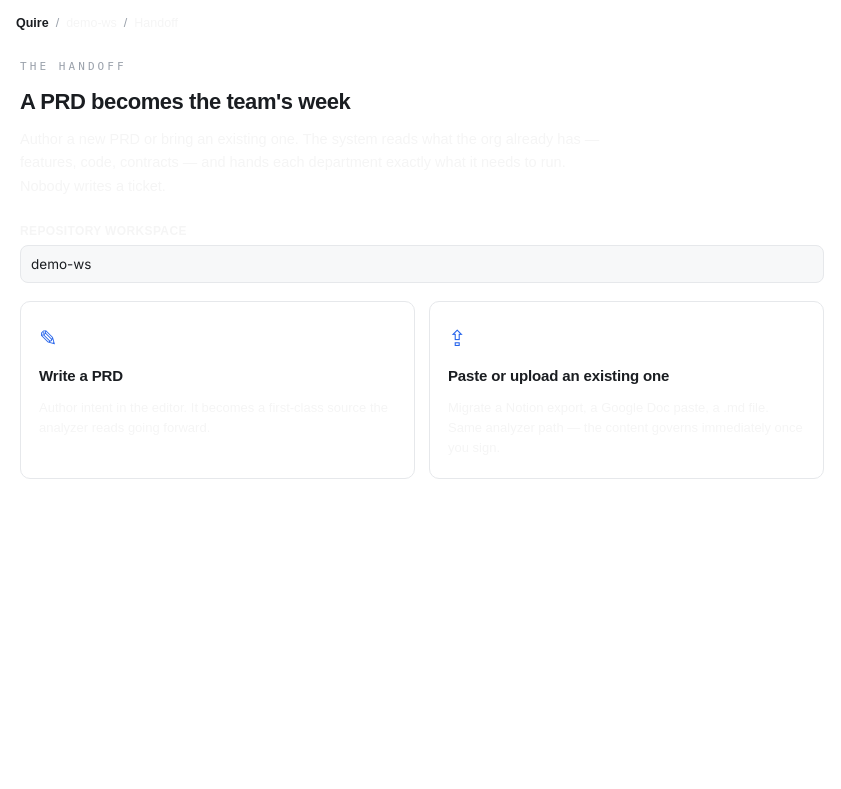
it: Handoff surface — editor door › disables the run button when editor is empty
Click the text "Write a PRD" at (81,376), box [39, 365, 123, 388]
(page scrolled)
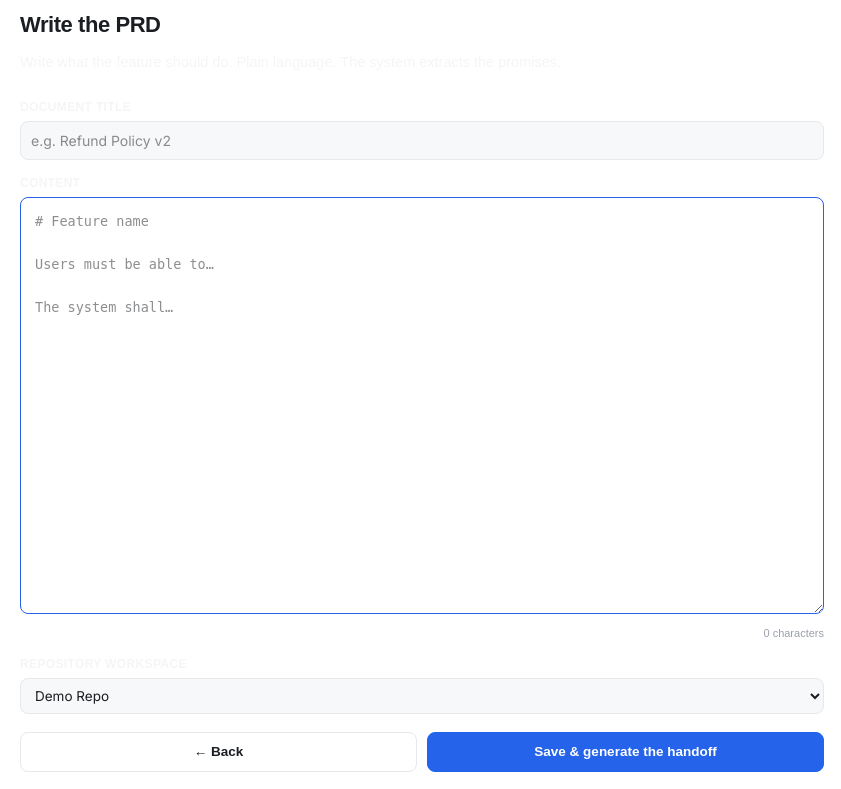
Expected: the button "Save & generate the handoff" is disabled, [427, 732, 824, 772]
